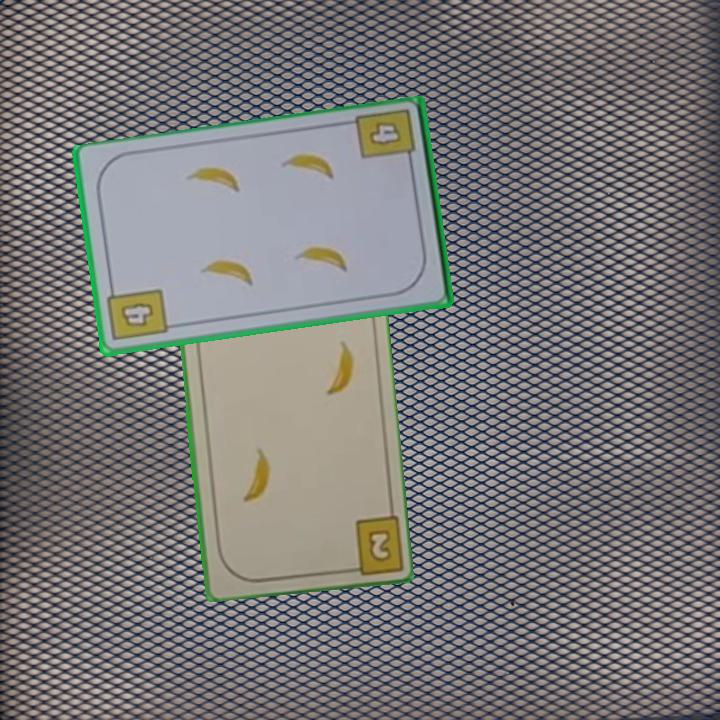2b: (338, 509, 403, 575)
4b: (353, 105, 419, 171), (104, 282, 171, 344)
